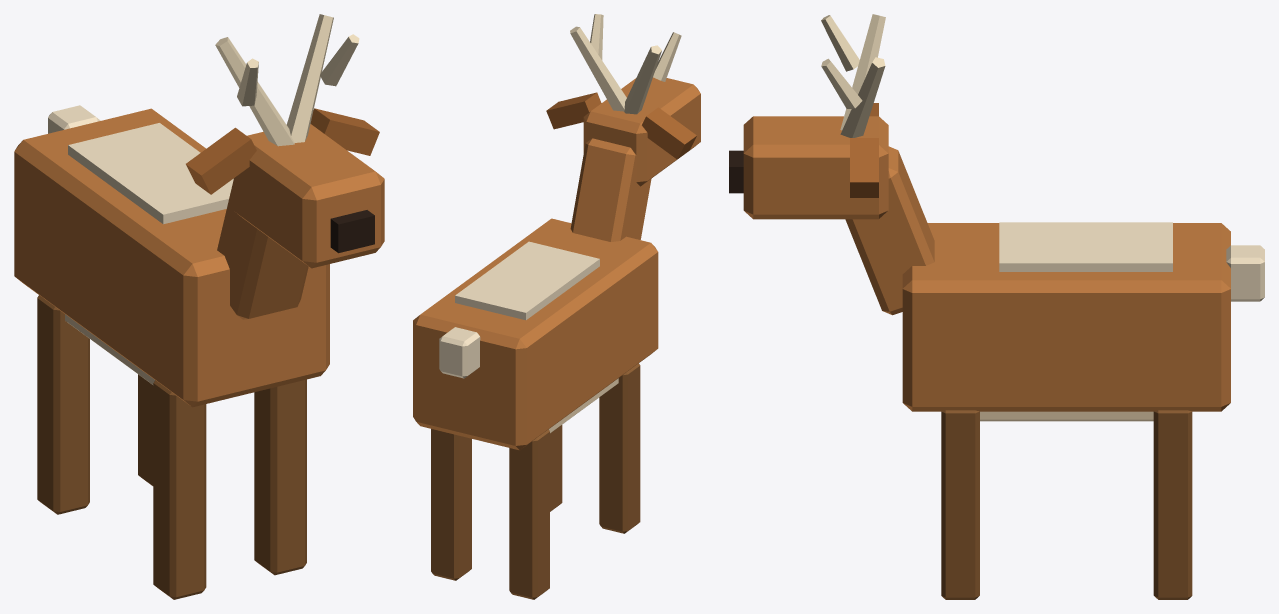
Rendered from deer.glb.
3 views of the same model, side by side, from view 1: azimuth 30°, elevation 25°; view 2: azimuth 150°, elevation 25°; view 3: azimuth 270°, elevation 25° (orthographic). The views are drawn at different scales.
Visible parts, largest first — view 1: Body, Head, LegFL, LegBL, LegFR, Spots, Neck, EarL, AntlerR, AntlerL, EarR, LegBR (+5 smaller); view 2: Body, LegBL, LegFL, Spots, Neck, LegBR, Head, Tail, EarL, AntlerR, EarR, AntlerL (+4 smaller); view 3: Body, Head, Spots, LegBR, LegFR, Neck, Tail, Belly, EarR, AntlerR, AntlerL, TineL (+1 smaller).
Part boxes in pixels (box(x1,y1,x2,y2)): Body: box(14, 108, 329, 407); Head: box(233, 124, 384, 268); LegFL: box(153, 380, 206, 599); LegBL: box(37, 295, 89, 514); LegFR: box(254, 379, 306, 575); Spots: box(68, 123, 233, 224); Neck: box(217, 180, 308, 319); EarL: box(186, 127, 256, 194); AntlerR: box(286, 14, 333, 142); AntlerL: box(215, 37, 294, 146); EarR: box(310, 108, 379, 155); LegBR: box(138, 374, 153, 485); Body: box(413, 218, 658, 450); LegBL: box(509, 429, 549, 599); LegFL: box(599, 363, 640, 533); Spots: box(455, 241, 599, 320); Neck: box(570, 138, 651, 241); LegBR: box(431, 429, 471, 580); Head: box(583, 77, 700, 186); Tail: box(439, 327, 480, 378); EarL: box(642, 107, 696, 159); AntlerR: box(570, 26, 626, 111); EarR: box(546, 92, 601, 129); AntlerL: box(624, 45, 661, 114); Body: box(902, 223, 1230, 411); Head: box(743, 116, 888, 219); Spots: box(999, 222, 1172, 271); LegBR: box(1153, 410, 1192, 599); LegFR: box(941, 410, 979, 599); Neck: box(845, 146, 934, 315); Tail: box(1226, 245, 1264, 301); Belly: box(980, 411, 1153, 421); EarR: box(850, 138, 878, 197); AntlerR: box(840, 57, 885, 137); AntlerL: box(840, 14, 885, 130); TineL: box(821, 15, 859, 71).
Bounding box in the file's own units: 0.3899 × 1.22 × 1.11.
